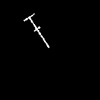double_crochet: (24, 14, 48, 47)
